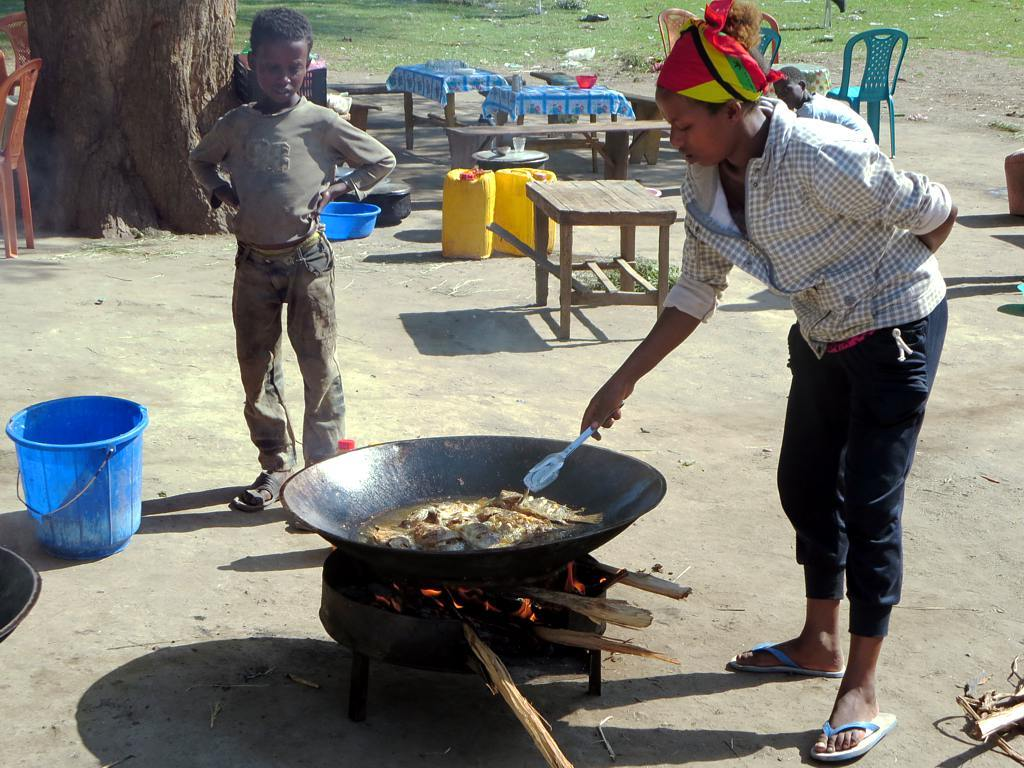Chair: (837, 29, 922, 137), (653, 7, 701, 58), (754, 26, 784, 76), (760, 10, 783, 63)
